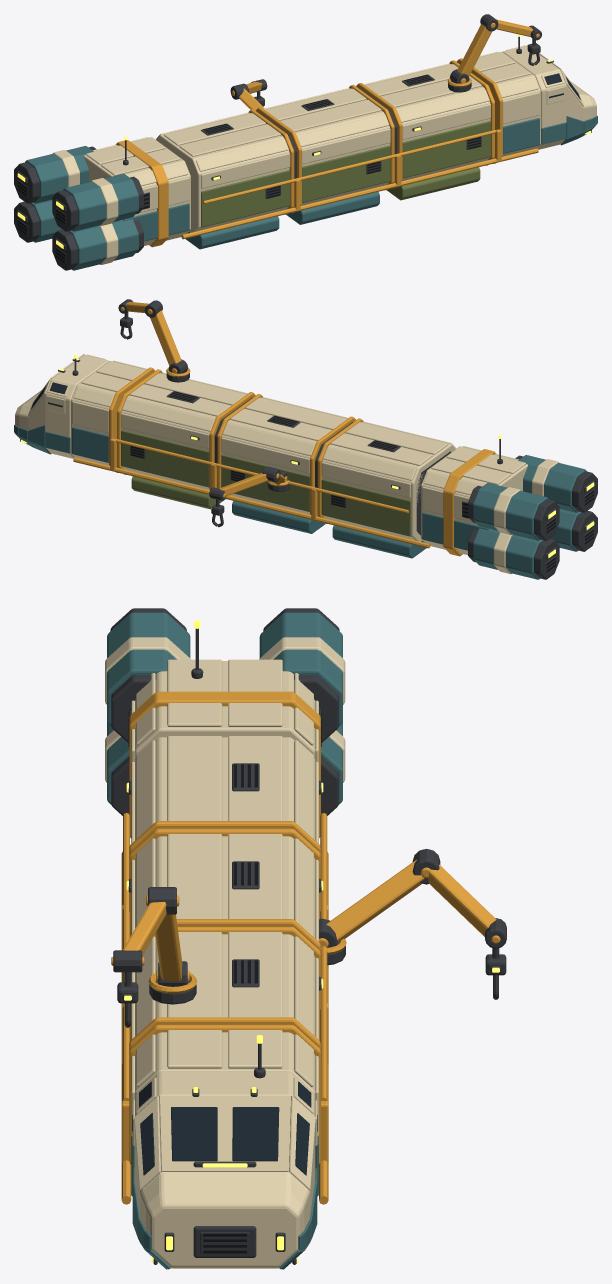
The model's file is freighter.glb.
The picture shows the model from 3 angles, top to bottom: view 1: azimuth 30°, elevation 25°; view 2: azimuth 150°, elevation 25°; view 3: azimuth 270°, elevation 25°; orthographic projection. The views are drawn at different scales.
Parts seen in each view (by area): view 1: hull body, drive body, crane fore body, crane aft body; view 2: hull body, drive body, crane fore body, crane aft body; view 3: hull body, drive body, crane aft body, crane fore body.
Part boxes in pixels (x1,y1,x2,y2): hull body: [84, 36, 597, 249]; drive body: [14, 146, 143, 270]; crane fore body: [447, 14, 541, 92]; crane aft body: [230, 79, 267, 110]; hull body: [14, 354, 527, 558]; drive body: [468, 455, 597, 579]; crane fore body: [118, 299, 190, 382]; crane aft body: [209, 466, 289, 527]; hull body: [121, 628, 328, 1269]; drive body: [105, 608, 345, 815]; crane aft body: [319, 849, 506, 999]; crane fore body: [111, 887, 197, 1027].
Bounding box in the file's own units: 17.99 × 5.16 × 5.79.
